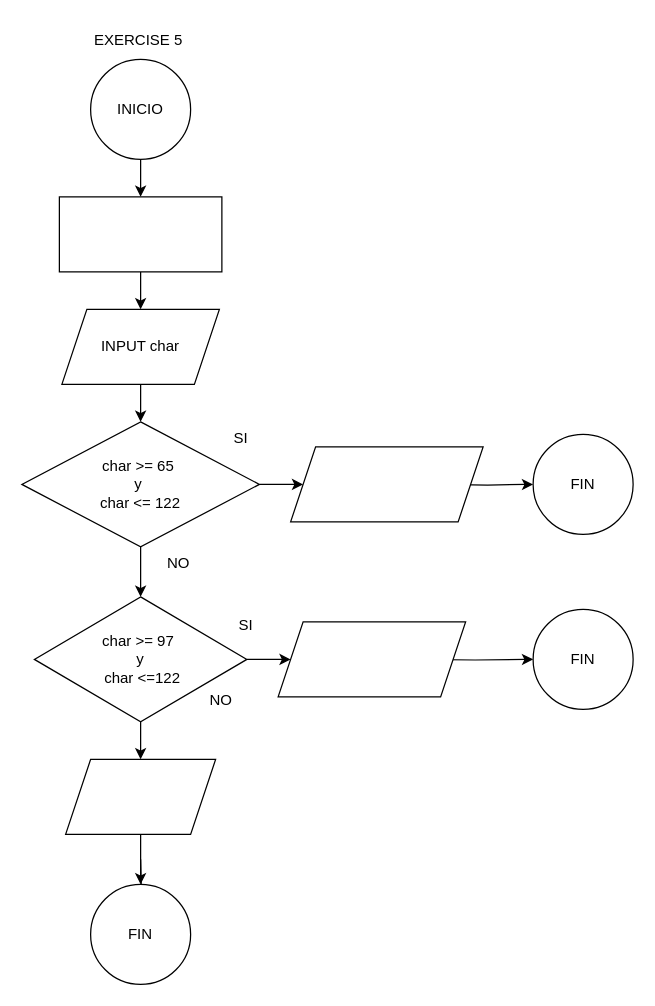
This 655x1006 diagram has some shape labels left out. Each missing label, with the centre of its shape:
DDECLARAR char: the point at 140,234
OUTPUT "lower-case alphabet": the point at 371,659
OUTPUT "upper-case alphabet": the point at 386,484
OUTPUT not an alphabet: the point at 140,796
